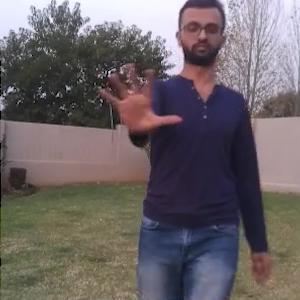follow_hand: (95, 57, 184, 138)
